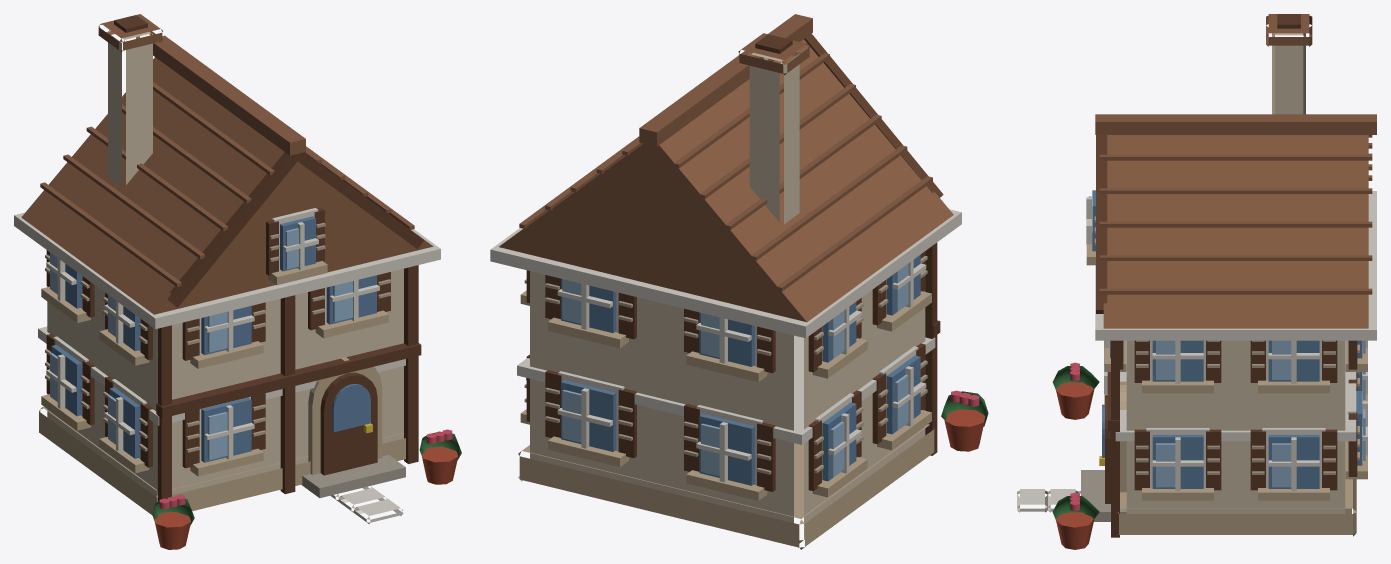
The model's file is house-f.glb.
The picture shows the model from 3 angles, left to right: view 1: azimuth 30°, elevation 25°; view 2: azimuth 150°, elevation 25°; view 3: azimuth 270°, elevation 25°; orthographic projection. The views are drawn at different scales.
Parts seen in each view (by area): view 1: house-f; view 2: house-f; view 3: house-f.
Part boxes in pixels (x1,y1,x2,y2): house-f: [14, 14, 461, 549]; house-f: [490, 14, 988, 549]; house-f: [1017, 14, 1376, 549].
Size of the model in its own units: 0.8344 by 1.13 by 0.8601.
